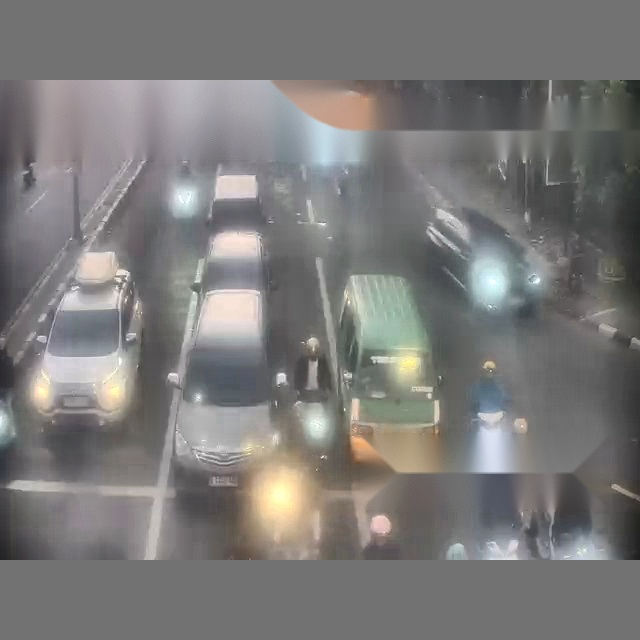Bis: (426, 206, 543, 313)
Mobil: (167, 290, 282, 486), (34, 279, 142, 424), (208, 173, 270, 244)
Motor: (240, 450, 312, 558), (170, 175, 203, 221), (0, 392, 16, 453)
